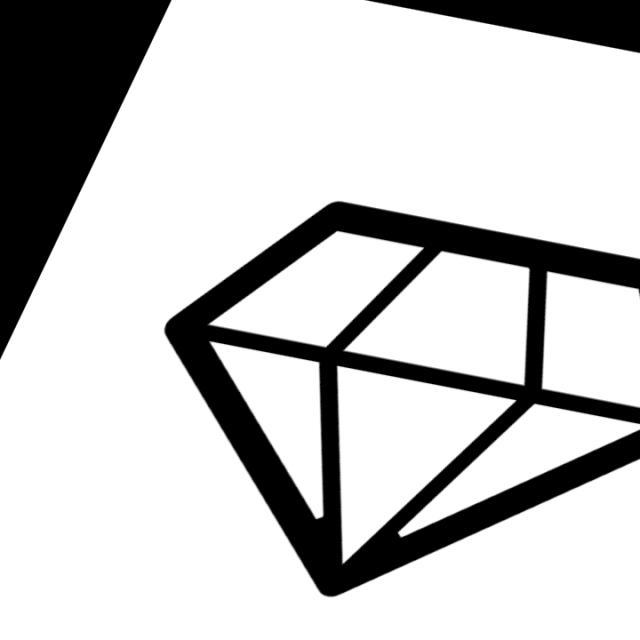diamond: (156, 194, 638, 611)
